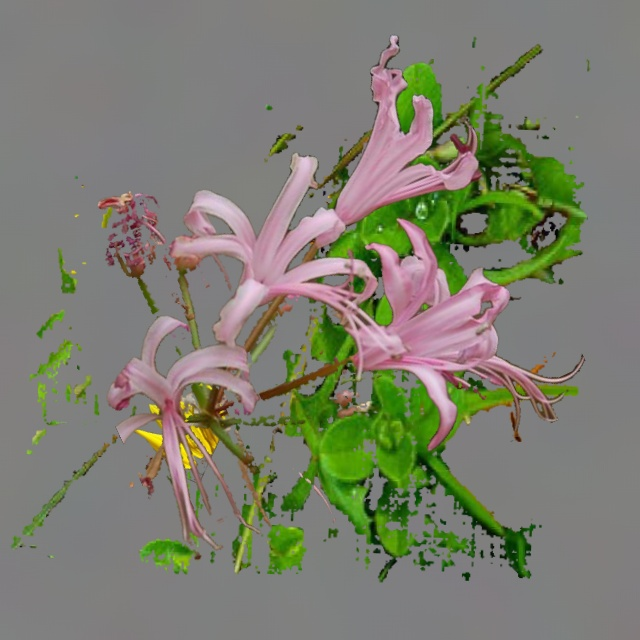cape flower: (97, 35, 584, 559)
dandelion: (11, 37, 589, 581)
frangipani: (324, 318, 367, 336)
sunflower: (131, 379, 225, 469)
